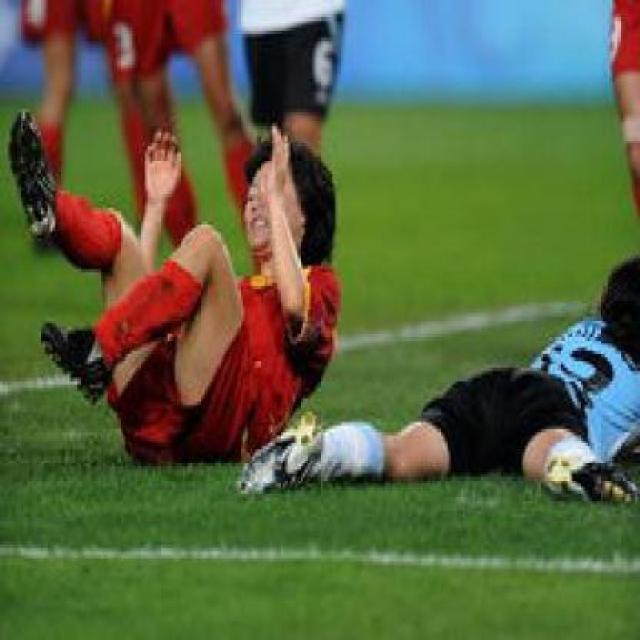fall: (250, 242, 635, 510)
